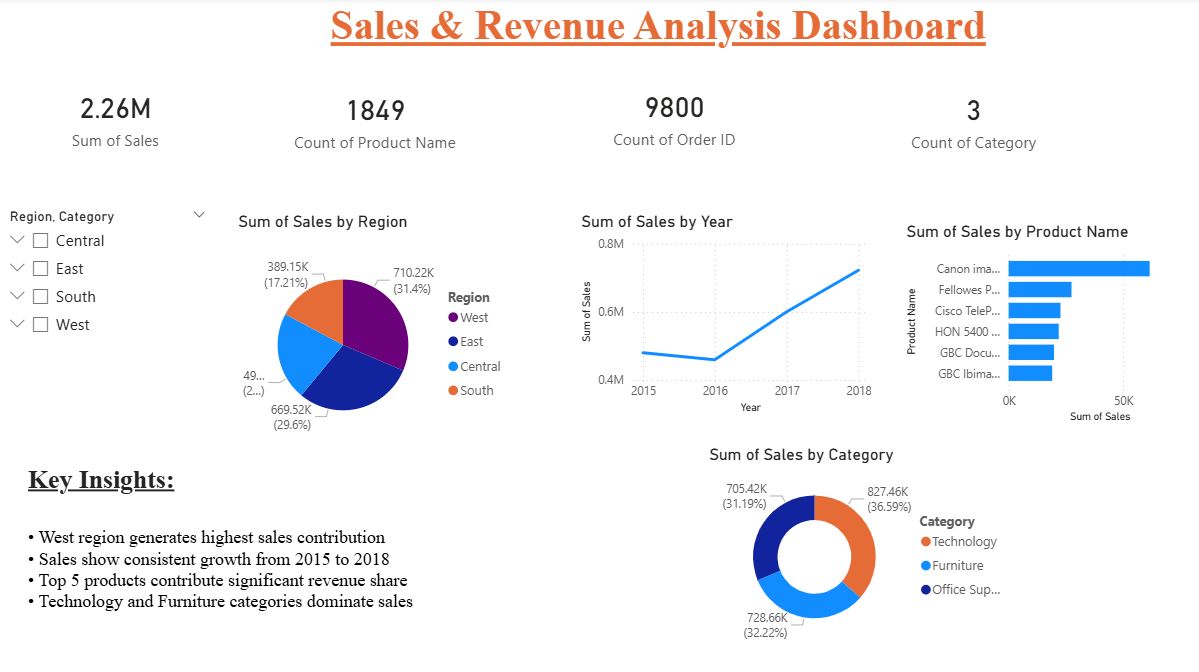

The dashboard page shown, as its layout file describes it:
{"tool":"powerbi","page":{"name":"Page 1","canvas":[1280,720],"ordinal":0},"visuals":[{"type":"card","fields":{"Values":["Sum(train xlsx.Sales)"]},"box":[0,48.7,245.2,151.2],"z":0},{"type":"card","fields":{"Values":["CountNonNull(train xlsx.Order ID)"]},"box":[537.5,35.3,330.9,176.4],"z":1000},{"type":"card","fields":{"Values":["Count(train xlsx.Product Name)"]},"box":[285.6,48.7,213.3,156.2],"z":2000},{"type":"card","fields":{"Values":["Count(train xlsx.Category)"]},"box":[848.3,38.6,330.9,176.4],"z":3000},{"type":"lineChart","fields":{"Category":["train xlsx.Order Date.Variation.Date Hierarchy.Year","train xlsx.Order Date.Variation.Date Hierarchy.Quarter","train xlsx.Order Date.Variation.Date Hierarchy.Month","train xlsx.Order Date.Variation.Date Hierarchy.Day"],"Y":["Sum(train xlsx.Sales)"]},"box":[601.4,223.4,310.8,213.3],"z":4000},{"type":"donutChart","fields":{"Category":["train xlsx.Category"],"Y":["Sum(train xlsx.Sales)"]},"box":[734.1,465.3,322.5,213.3],"z":5000},{"type":"pieChart","fields":{"Category":["train xlsx.Region"],"Y":["Sum(train xlsx.Sales)"]},"box":[245.2,223.4,292.3,257],"z":6000},{"type":"clusteredBarChart","fields":{"Category":["train xlsx.Product Name"],"Y":["Sum(train xlsx.Sales)"]},"box":[939,233.5,324.2,213.3],"z":7000},{"type":"slicer","fields":{"Values":["train xlsx.Region","train xlsx.Category"]},"box":[0,215,228.5,206.6],"z":8000},{"type":"textbox","box":[216.7,0,939,58.8],"z":9000},{"type":"textbox","box":[26.9,480.4,613.1,198.2],"z":10000}]}

Visuals, with their boxes in screenshot pixels (x1, y1, x2, y2), scaled from the page's 1280x720 canvas onto the 1199x672 screenshot:
card - Sum(train xlsx.Sales): detection(0, 45, 230, 187)
card - CountNonNull(train xlsx.Order ID): detection(503, 33, 813, 198)
card - Count(train xlsx.Product Name): detection(268, 45, 467, 191)
card - Count(train xlsx.Category): detection(795, 36, 1105, 201)
lineChart - train xlsx.Order Date.Variation.Date Hierarchy.Year x train xlsx.Order Date.Variation.Date Hierarchy.Quarter: detection(563, 209, 854, 408)
donutChart - train xlsx.Category x Sum(train xlsx.Sales): detection(688, 434, 990, 633)
pieChart - train xlsx.Region x Sum(train xlsx.Sales): detection(230, 209, 503, 448)
clusteredBarChart - train xlsx.Product Name x Sum(train xlsx.Sales): detection(880, 218, 1183, 417)
slicer - train xlsx.Region x train xlsx.Category: detection(0, 201, 214, 393)
textbox: detection(203, 0, 1083, 55)
textbox: detection(25, 448, 600, 633)
